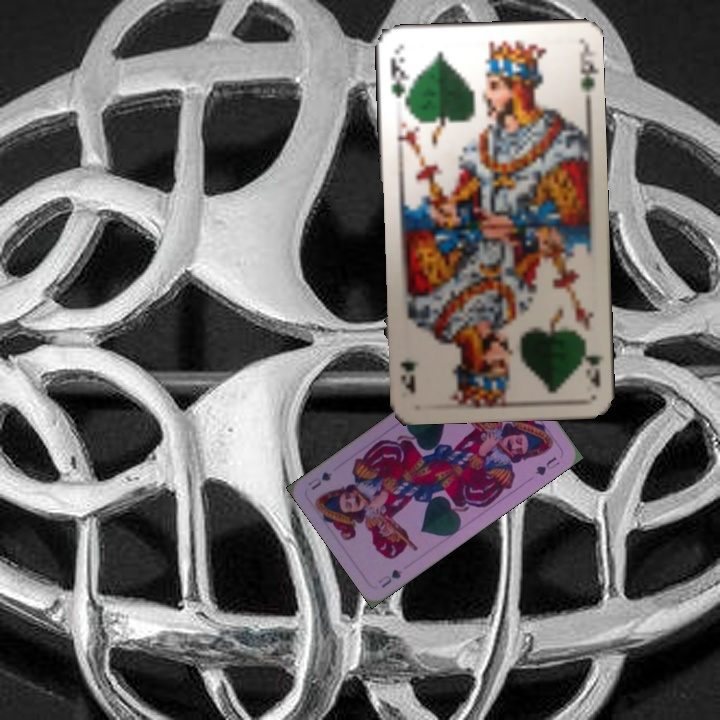GK: (577, 334, 605, 390), (385, 50, 411, 108)
GU: (374, 565, 405, 591)
